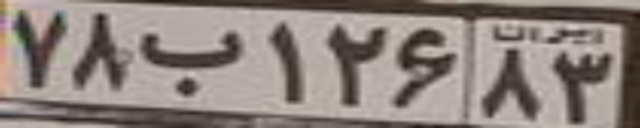1: (268, 22, 303, 103)
2: (325, 26, 382, 107)
3: (550, 50, 613, 123)
6: (396, 27, 454, 107)
7: (12, 8, 65, 90)
8: (479, 45, 542, 121), (74, 12, 129, 90)
be: (139, 29, 241, 96)
